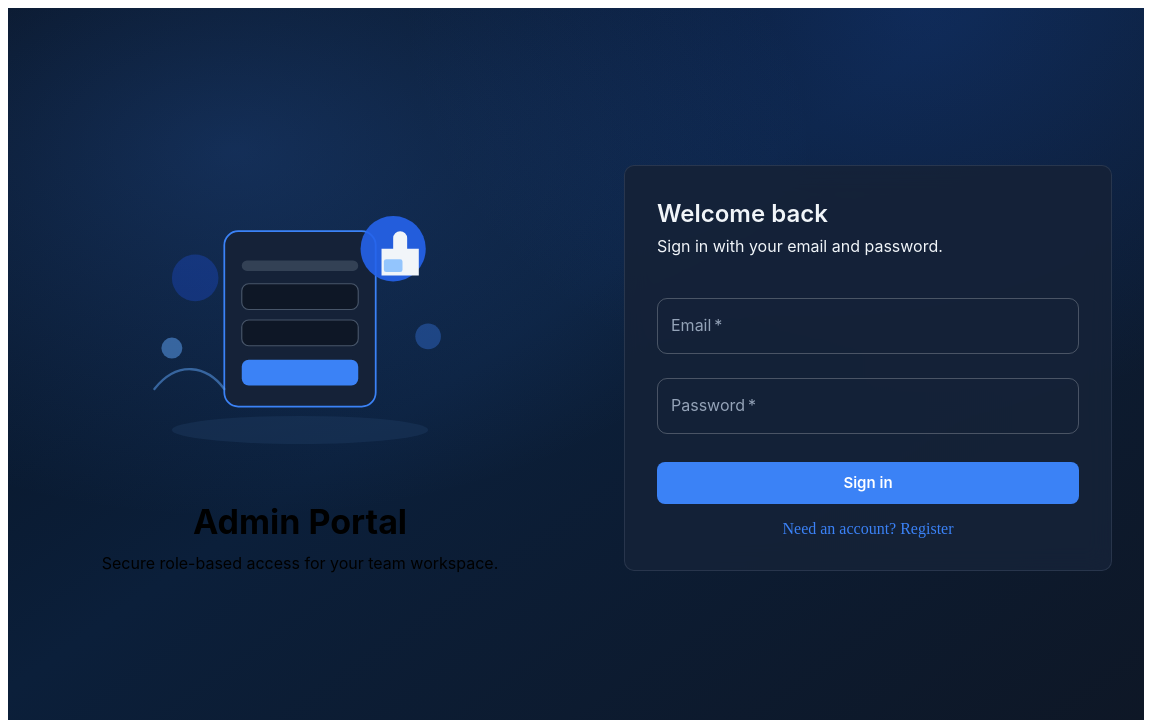
Test: LoginPage › falls back to a generic message for an empty Firebase error
The image size is (1152, 720).
Type "  ada@example.com  " into the field labelled "Email *". click: (868, 326)
box: [657,298,1079,354]
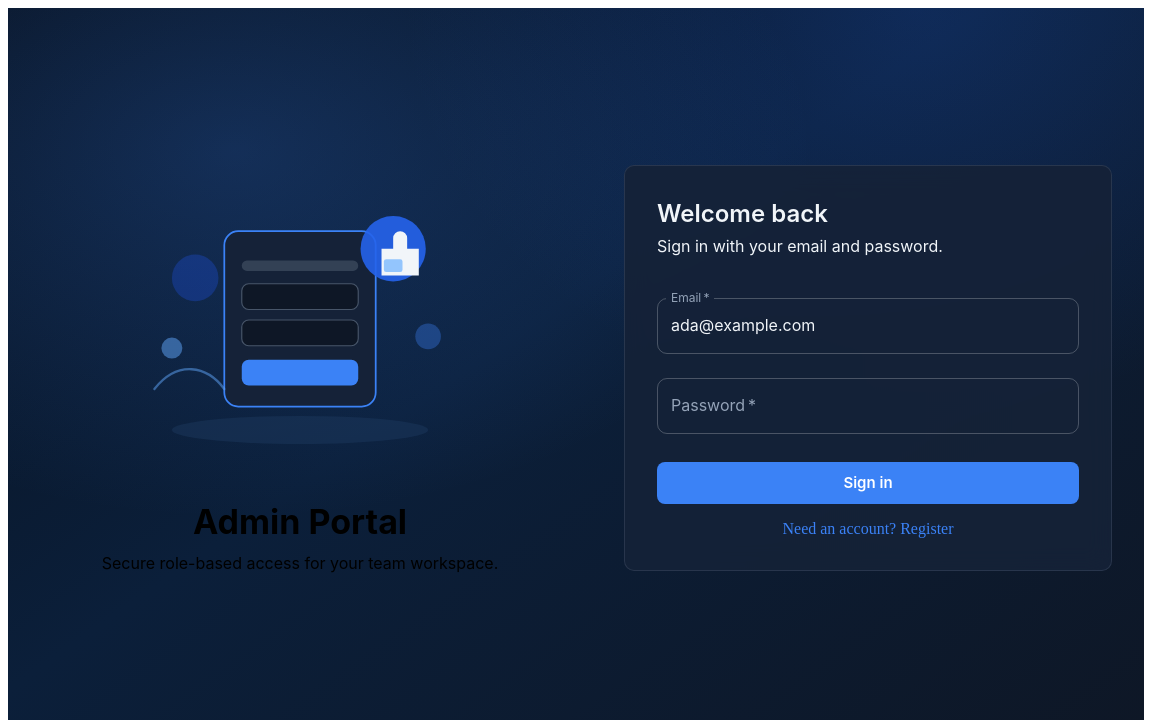
Type "secret" into the password field labelled "Password *". click: (868, 406)
box: [657,378,1079,434]
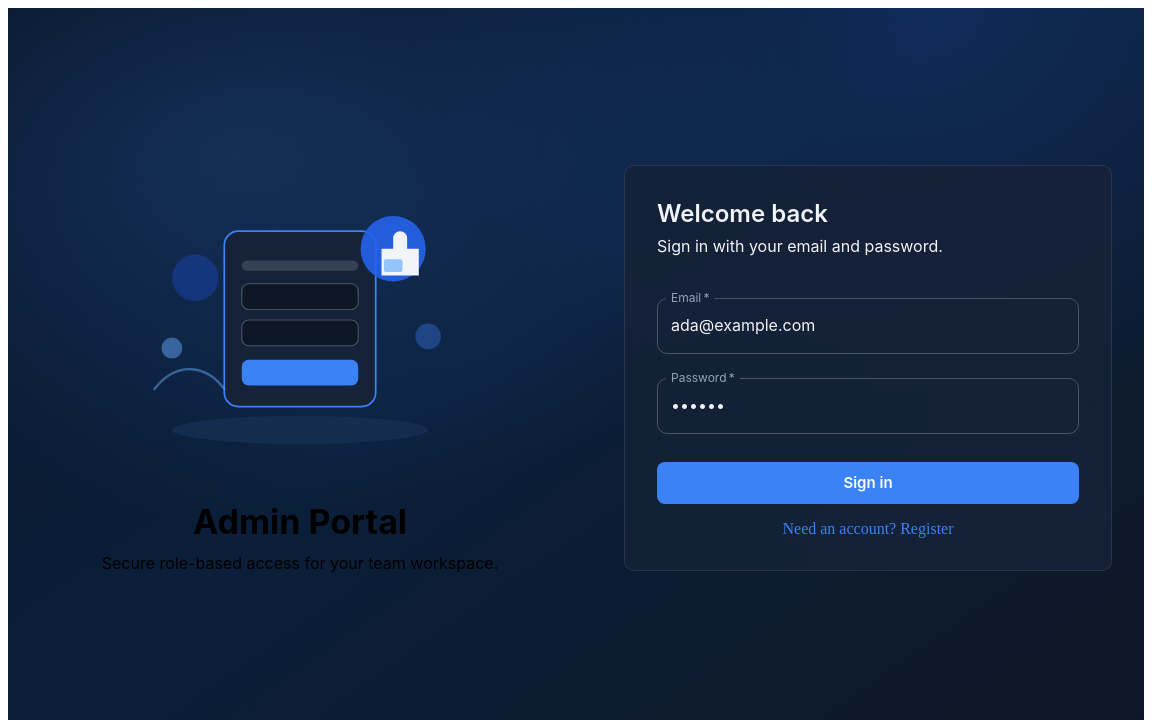
Click the button "Sign in". click: (868, 483)
box: [657,462,1079,504]
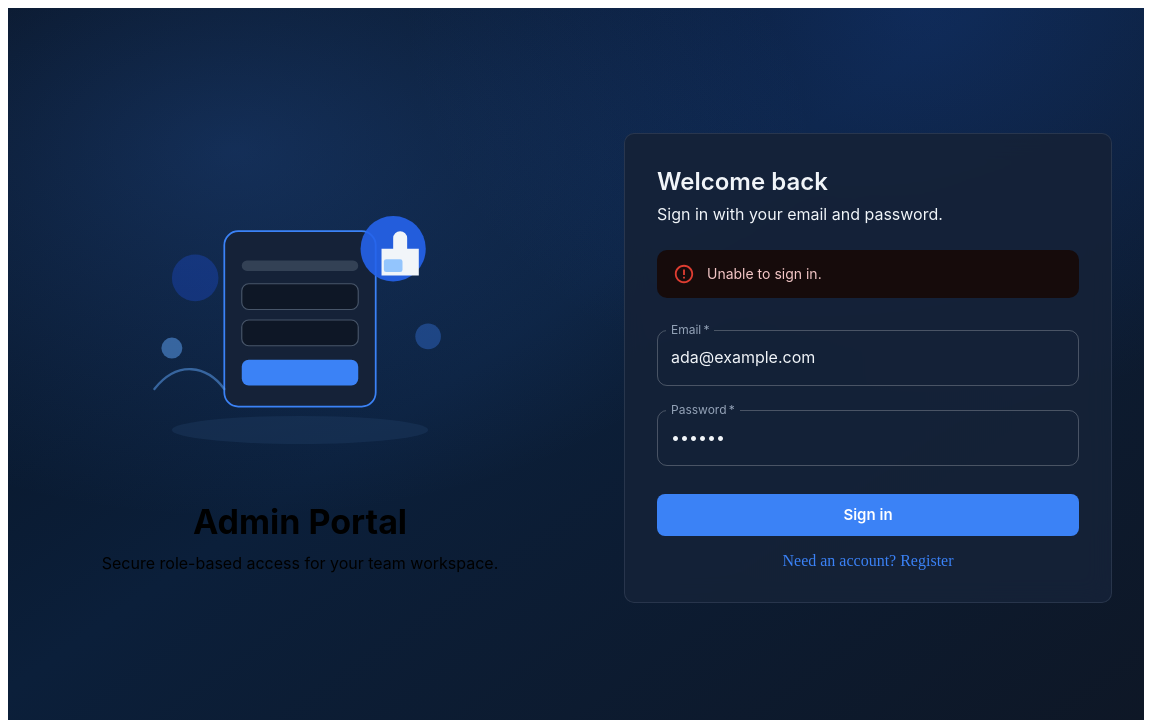
Check: the text "Unable to sign in." is shown, box [707,265,822,282]
